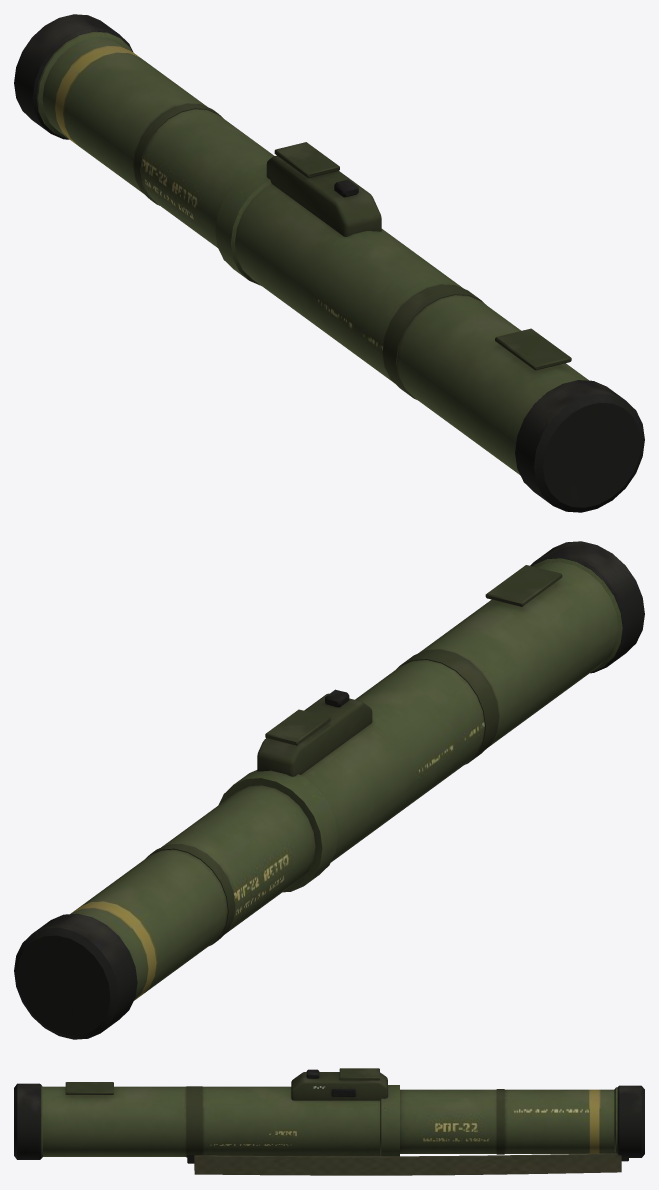
The model's file is rpg22_carried.glb.
The picture shows the model from 3 angles, top to bottom: view 1: azimuth 30°, elevation 25°; view 2: azimuth 150°, elevation 25°; view 3: azimuth 270°, elevation 25°; orthographic projection. The views are drawn at different scales.
Visible parts, largest first — view 1: rpg22_carried_mesh; view 2: rpg22_carried_mesh; view 3: rpg22_carried_mesh.
Part boxes in pixels (left/top/right/bottom): rpg22_carried_mesh: left=14, top=14, right=644, bottom=512; rpg22_carried_mesh: left=14, top=541, right=644, bottom=1039; rpg22_carried_mesh: left=14, top=1068, right=644, bottom=1175.
Size of what is drawn, in the model's own units: 0.095 by 0.1275 by 0.783.
1 material, 1 textured.
